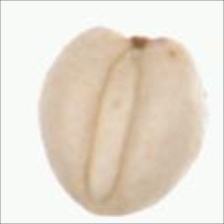L5: (82, 48, 145, 205), (94, 24, 175, 53)
L6: (38, 25, 204, 217)
